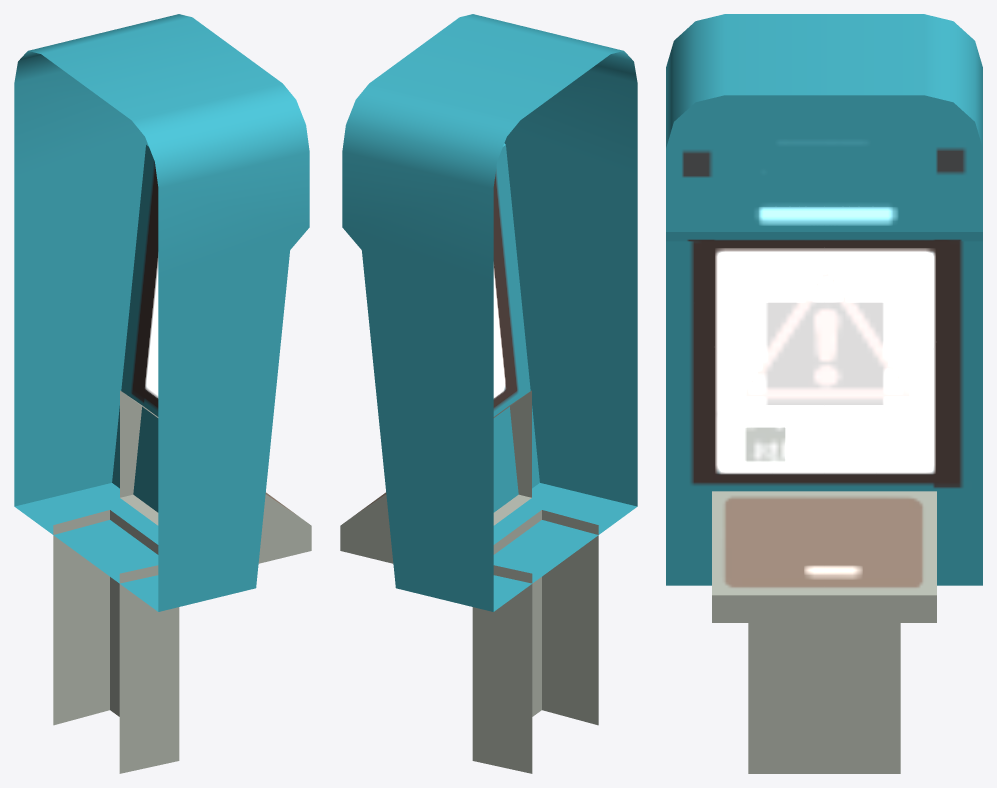
The model's file is Pfb_Soda_Instruments.fbx.
3 views of the same model, side by side, from view 1: azimuth 30°, elevation 25°; view 2: azimuth 150°, elevation 25°; view 3: azimuth 270°, elevation 25° (orthographic). The views are drawn at different scales.
Visible parts, largest first — view 1: MAT_Soda_Instruments_Grey 7; view 2: MAT_Soda_Instruments_Grey 7; view 3: MAT_Soda_Instruments_Grey 7.
Boxes of the visible parts, box(x1,y1,x2,y2) form: MAT_Soda_Instruments_Grey 7: box(14, 14, 311, 773); MAT_Soda_Instruments_Grey 7: box(340, 14, 637, 773); MAT_Soda_Instruments_Grey 7: box(666, 14, 982, 773).
Bounding box in the file's own units: 0.4852 × 1.76 × 0.6956.
1 material, 1 textured.
